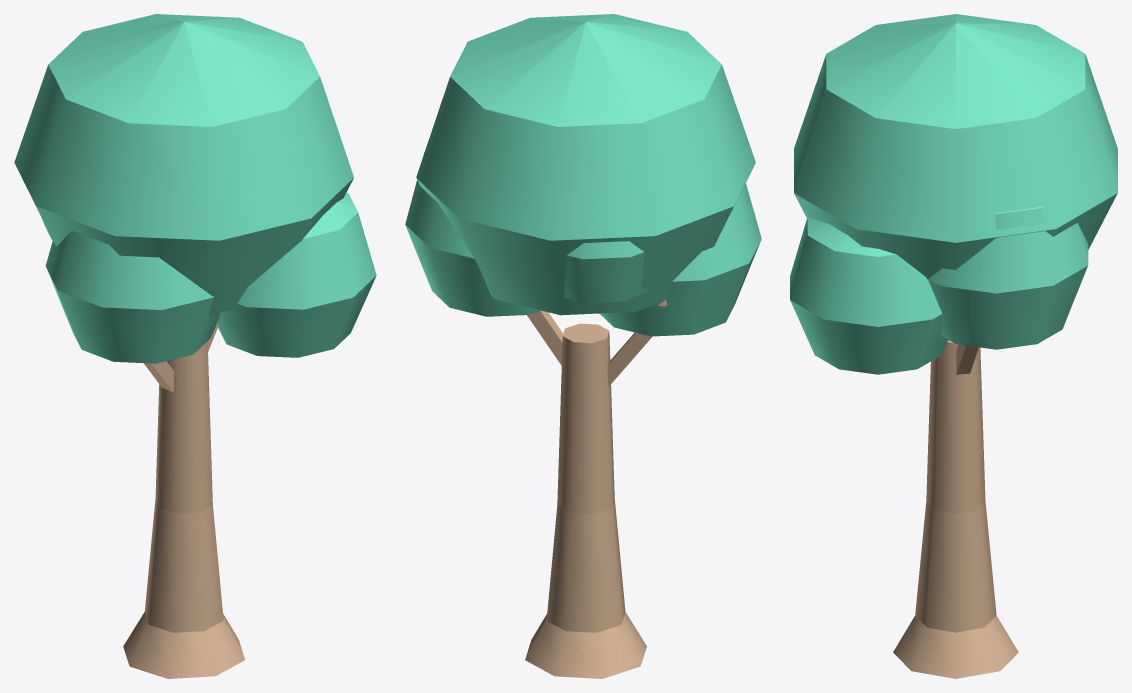
File: tree.glb
The picture shows the model from 3 angles, left to right: view 1: azimuth 30°, elevation 25°; view 2: azimuth 150°, elevation 25°; view 3: azimuth 270°, elevation 25°; orthographic projection.
Parts seen in each view (by area): view 1: tree; view 2: tree; view 3: tree.
Boxes of the visible parts, x1=… form: tree: x1=14, y1=14, x2=376, y2=678; tree: x1=405, y1=14, x2=761, y2=678; tree: x1=790, y1=14, x2=1117, y2=678.
Size of the model in its own units: 0.92 by 1.88 by 0.8853.
